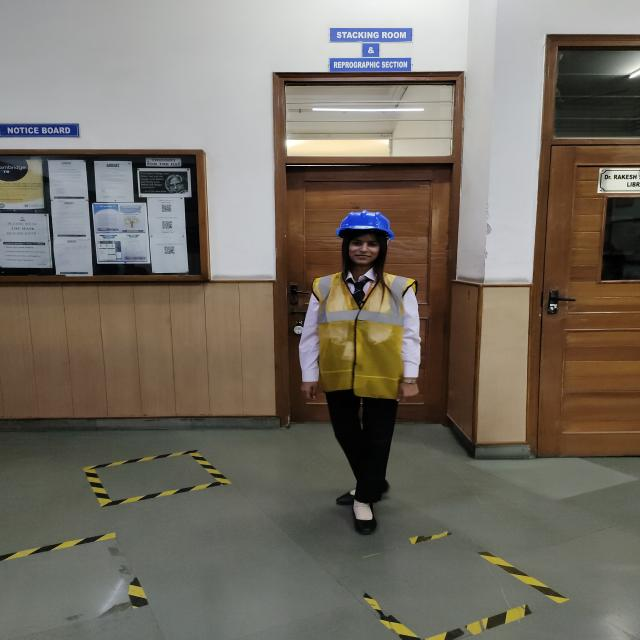safe: (298, 211, 419, 533)
